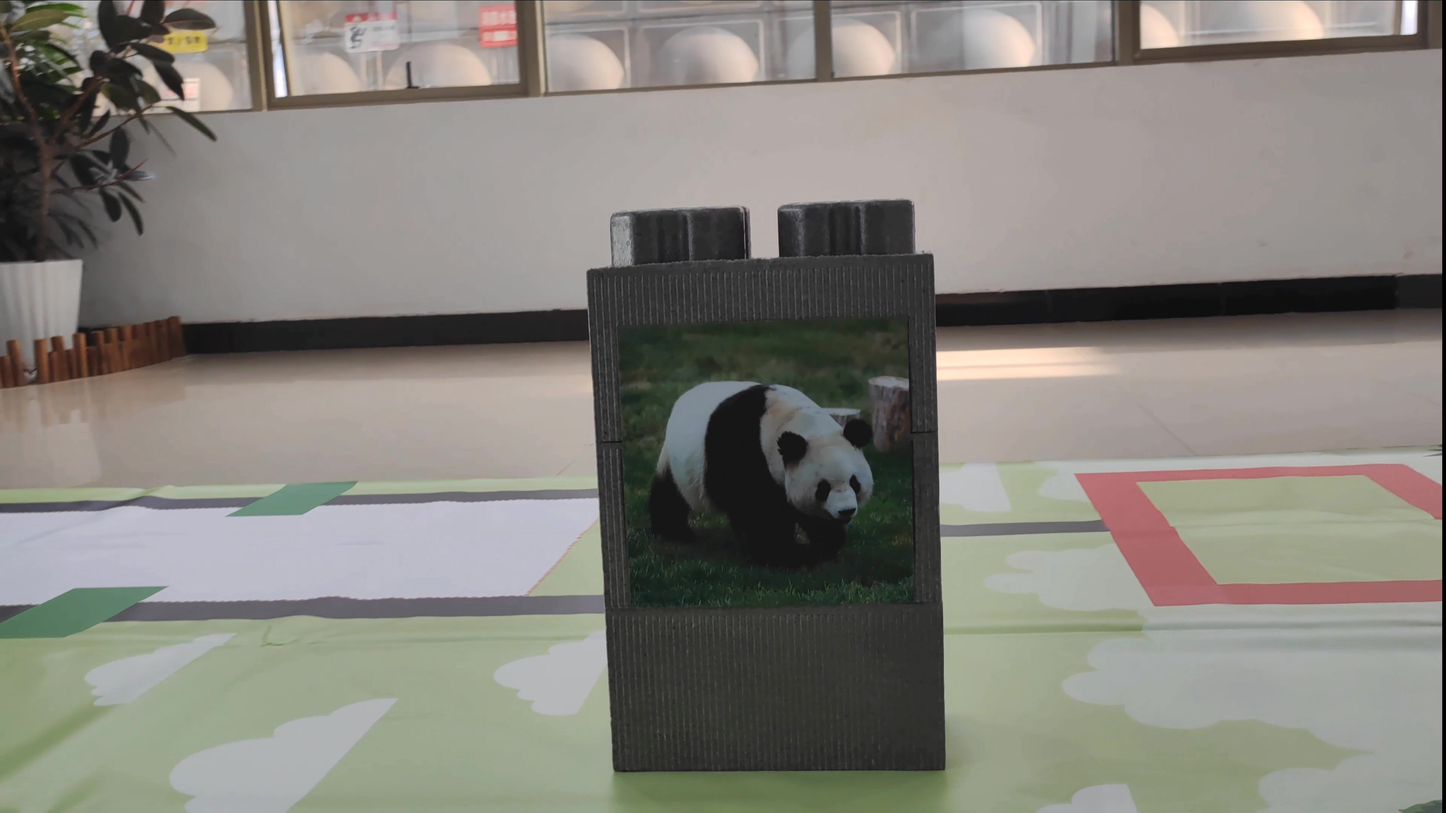panda: (626, 361, 886, 576)
